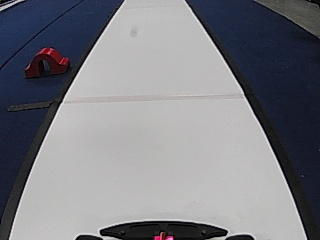bridge: (21, 43, 69, 77)
